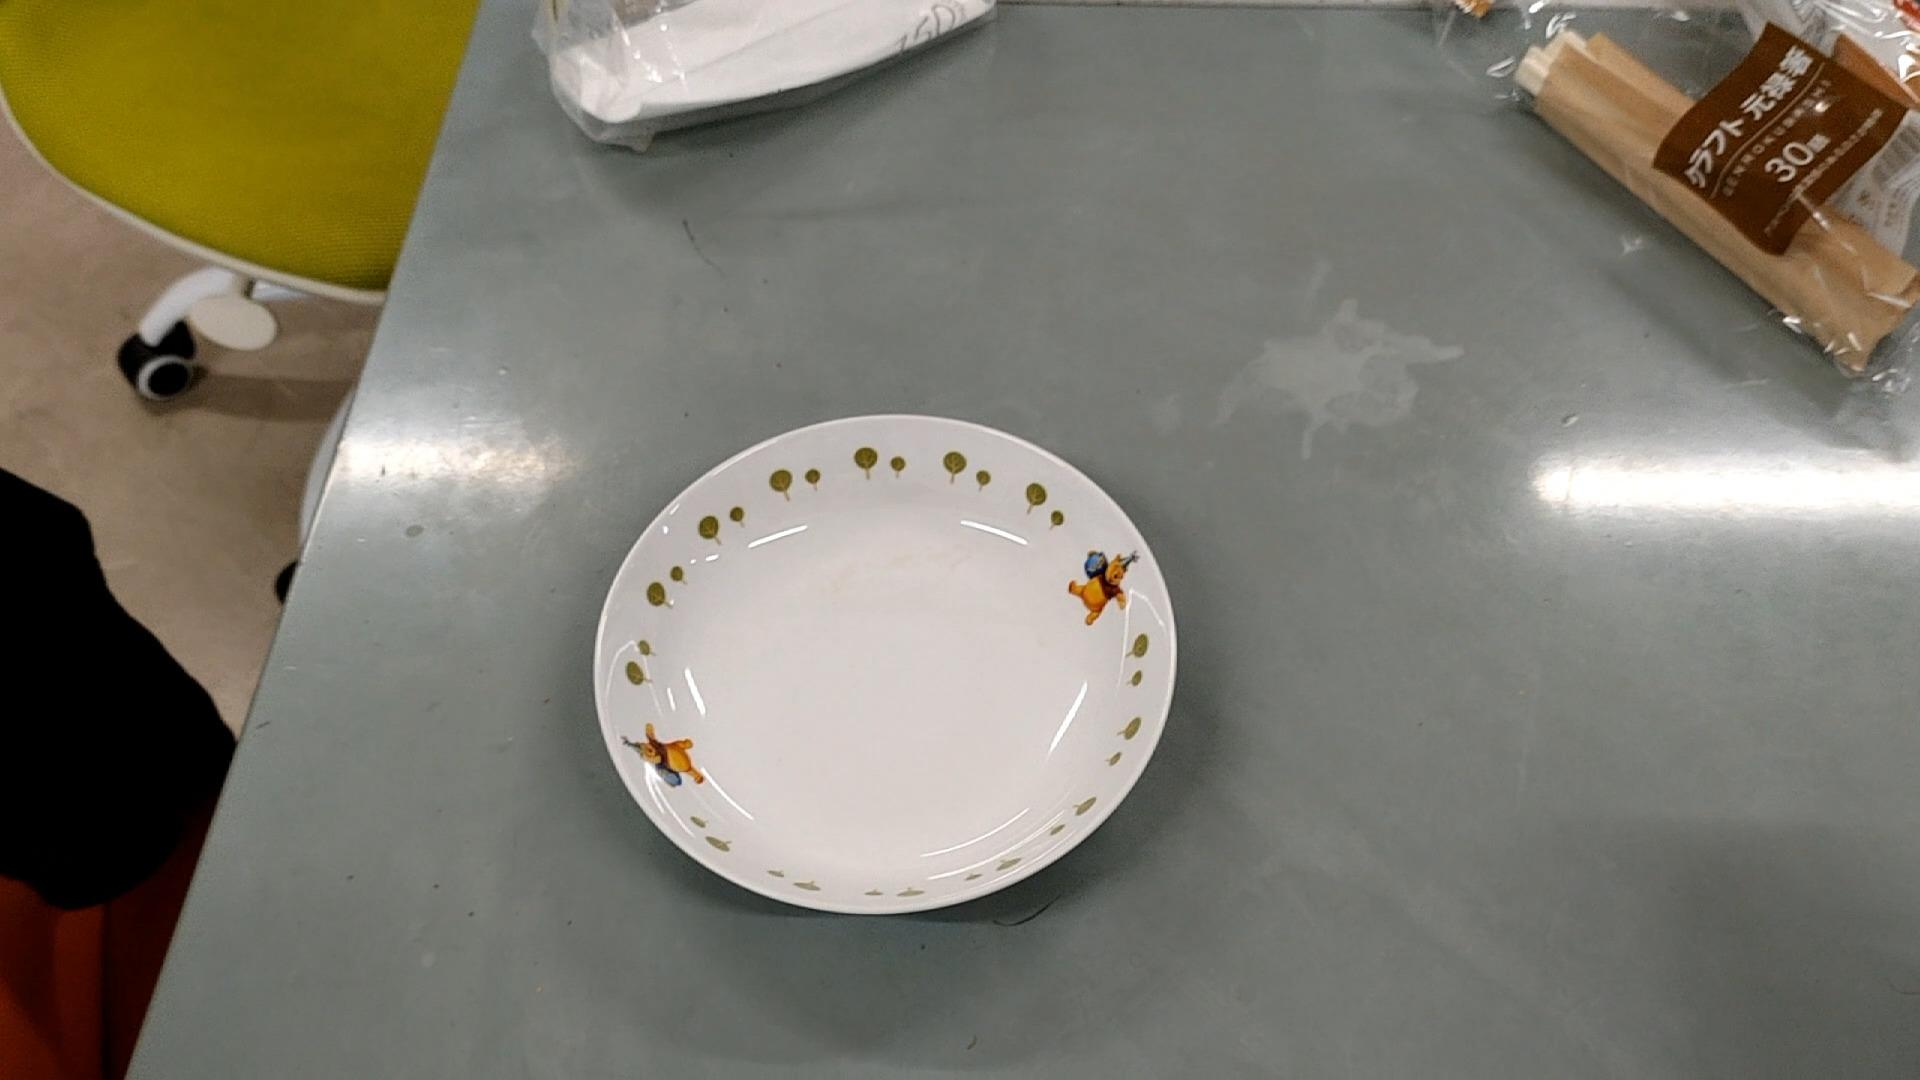plate: (596, 407, 1175, 918)
